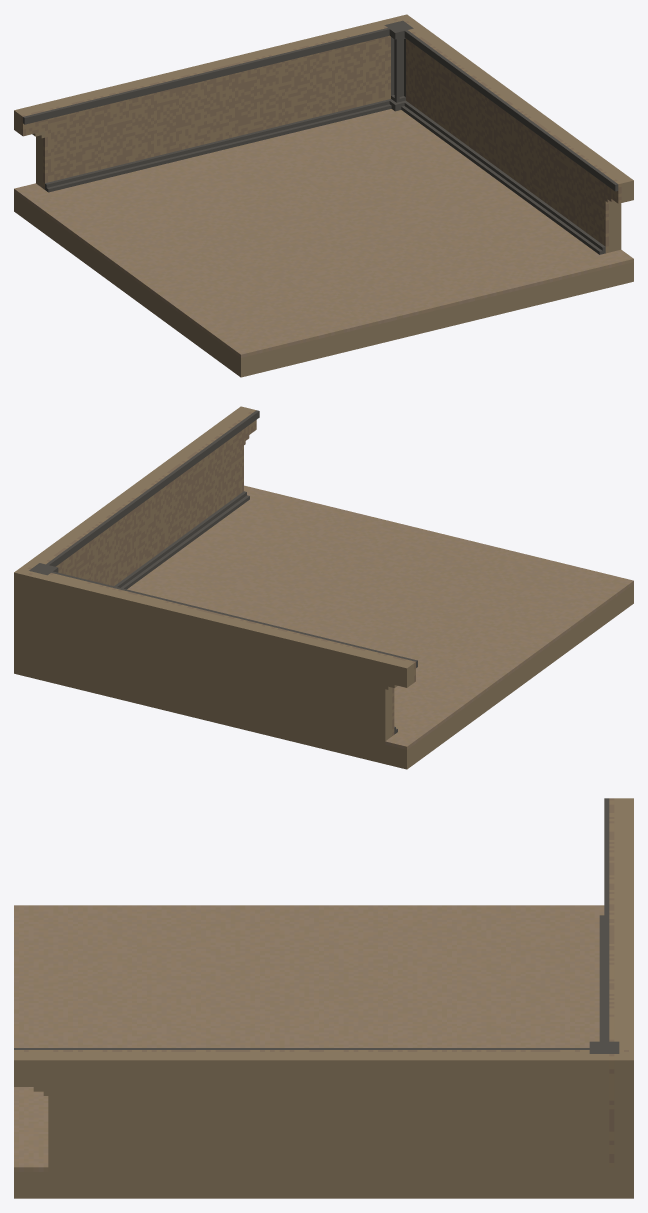
The model's file is LargeRoom3-3.obj.
3 renders of one model, top to bottom at view 1: azimuth 30°, elevation 25°; view 2: azimuth 150°, elevation 25°; view 3: azimuth 270°, elevation 25°, orthographic. The views are drawn at different scales.
Bounding box in the file's own units: 12.6 × 3.1 × 12.6.
1 material, 1 textured.
